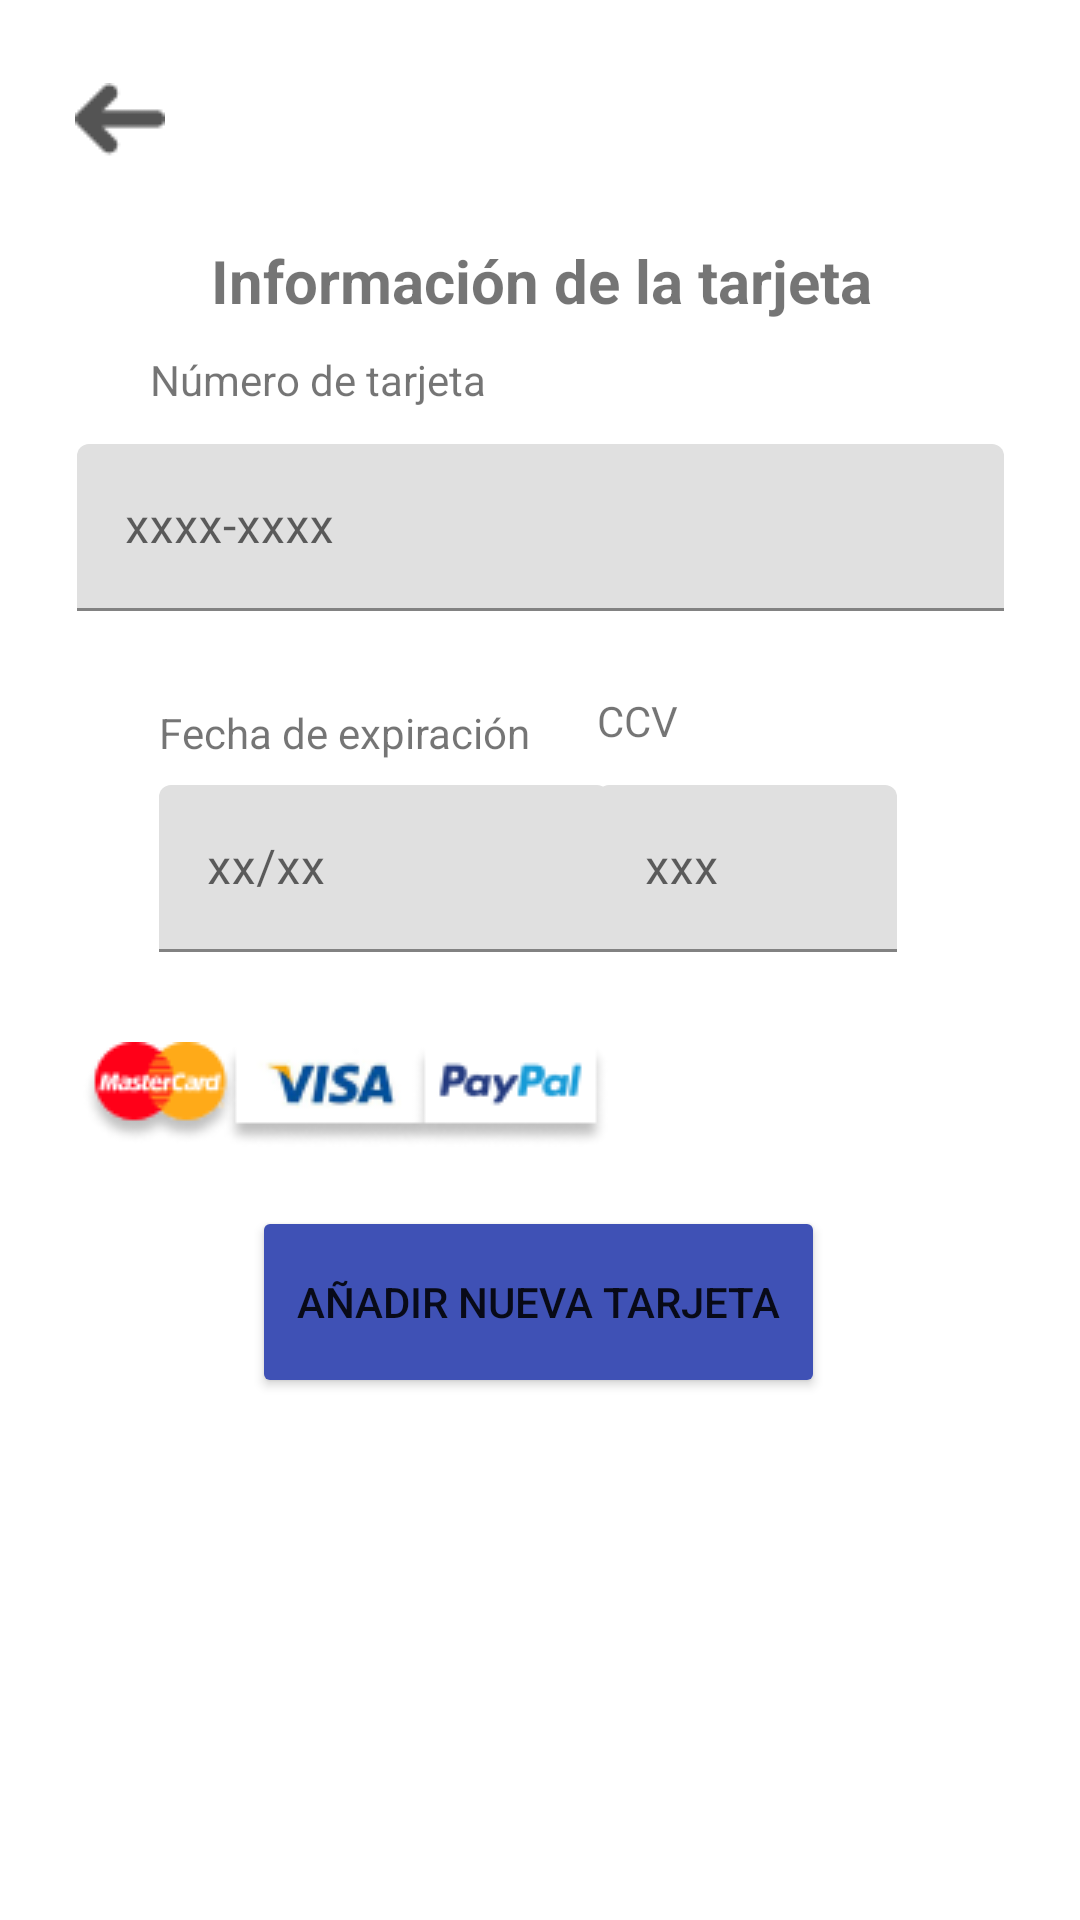

Locate icon controls on the screen. Image size 1080x1920, boxes as (x1, y1, x2, y2).
arrow: (75, 83, 165, 155)
